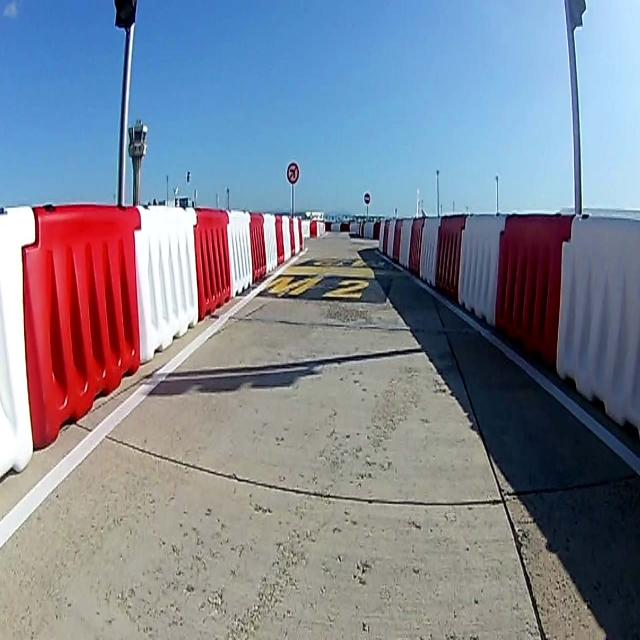soladonulmez: (287, 164, 299, 183)
